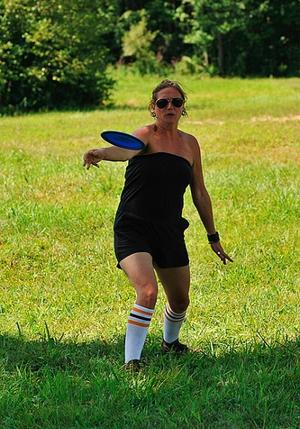person: (84, 81, 233, 377)
